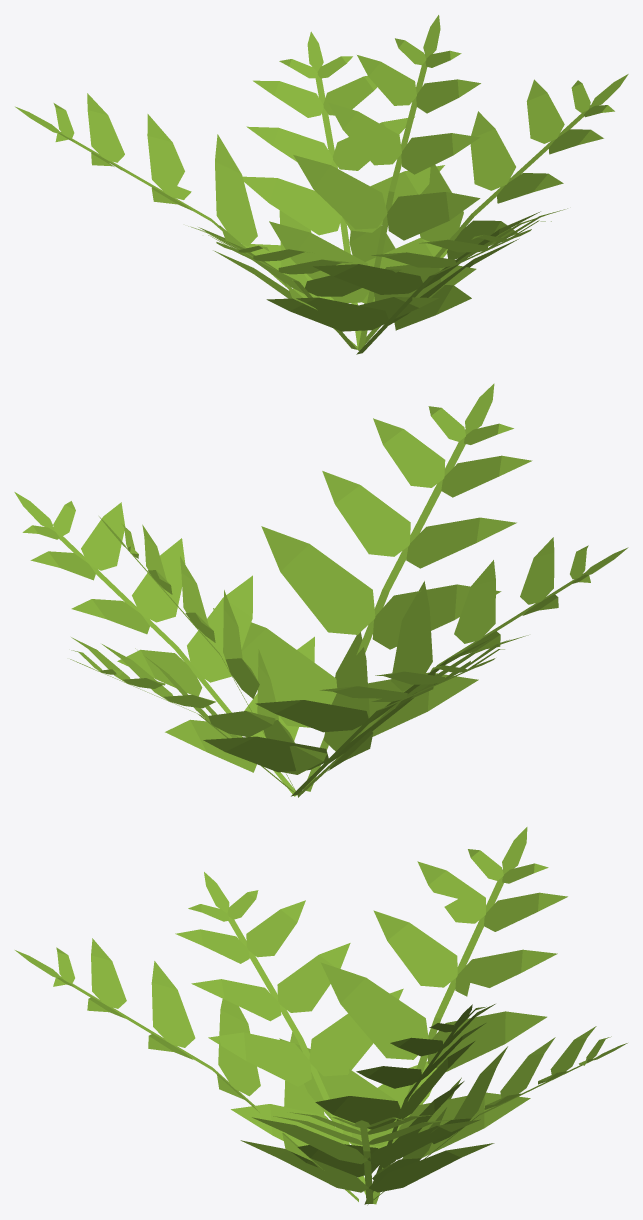
The model's file is SM_Grass_Fern_Mature_A.fbx.
The picture shows the model from 3 angles, top to bottom: view 1: azimuth 30°, elevation 25°; view 2: azimuth 150°, elevation 25°; view 3: azimuth 270°, elevation 25°; orthographic projection. The views are drawn at different scales.
Visible parts, largest first — view 1: grass-fern-mature-a; view 2: grass-fern-mature-a; view 3: grass-fern-mature-a.
Boxes of the visible parts, x1,y1,x2,y2 form: grass-fern-mature-a: (15, 15, 628, 354); grass-fern-mature-a: (14, 383, 628, 797); grass-fern-mature-a: (15, 827, 627, 1205).
Size of the model in its own units: 1.55 by 0.7389 by 1.56.
